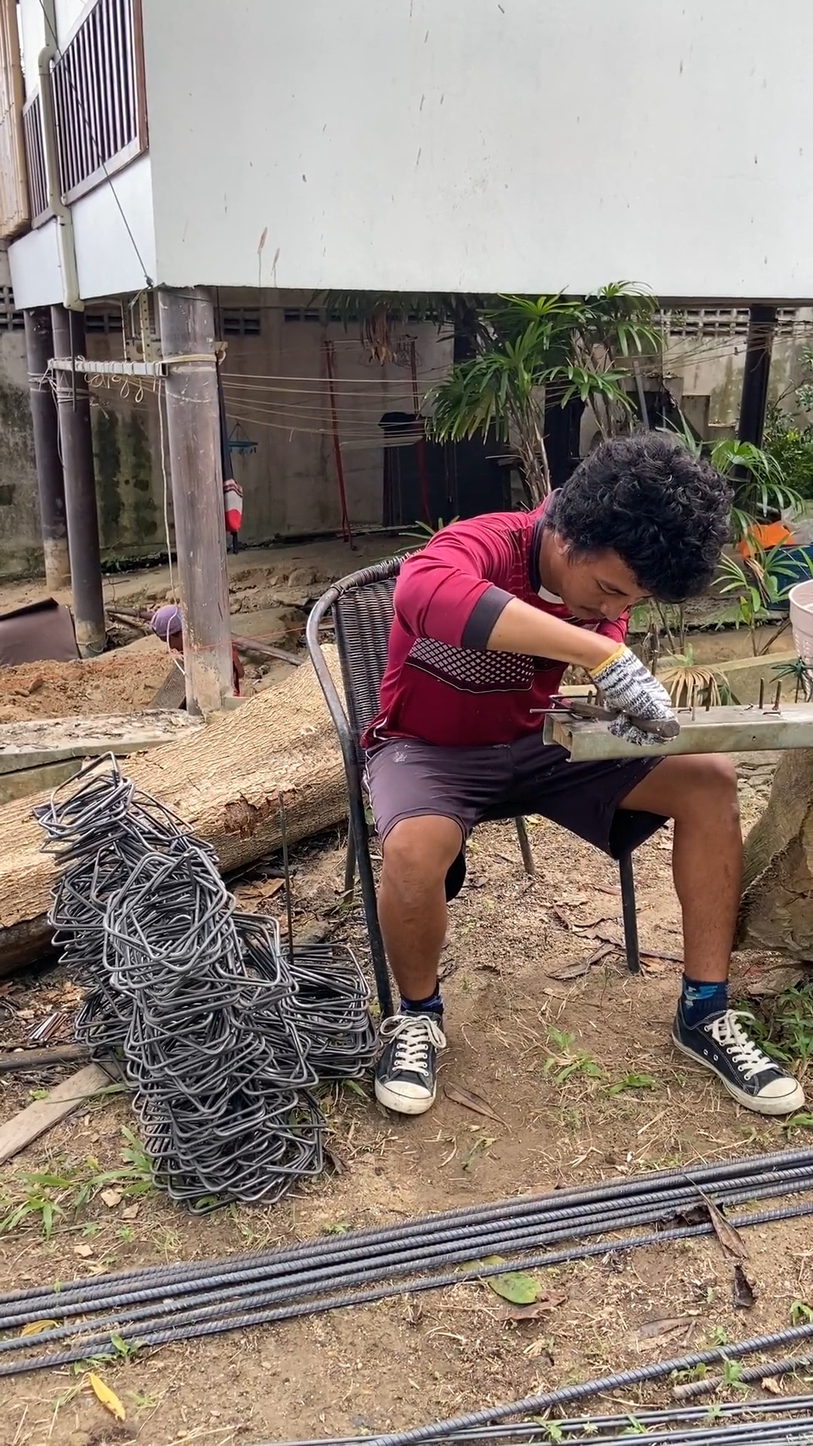gloves: (587, 635, 697, 762)
